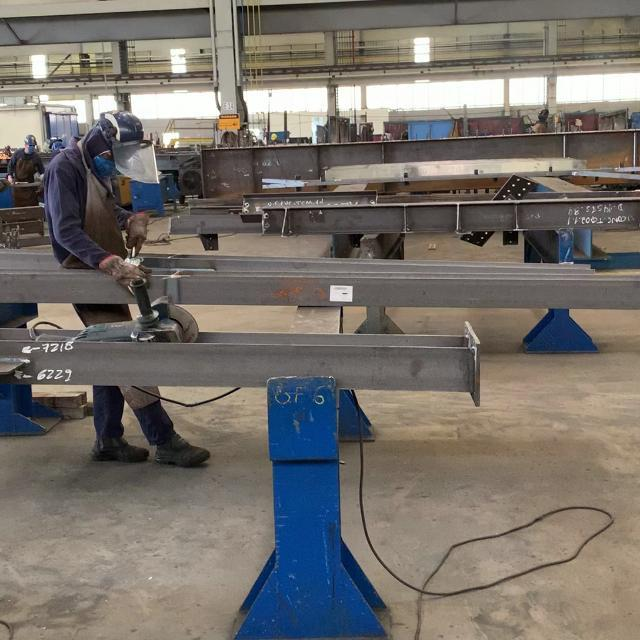eye-glass: (113, 143, 160, 188)
face-shield: (100, 255, 153, 300), (127, 214, 147, 252)
glove: (98, 109, 145, 143)
mask: (45, 112, 160, 297)
safety-shoe: (154, 430, 213, 467), (90, 437, 152, 465)
